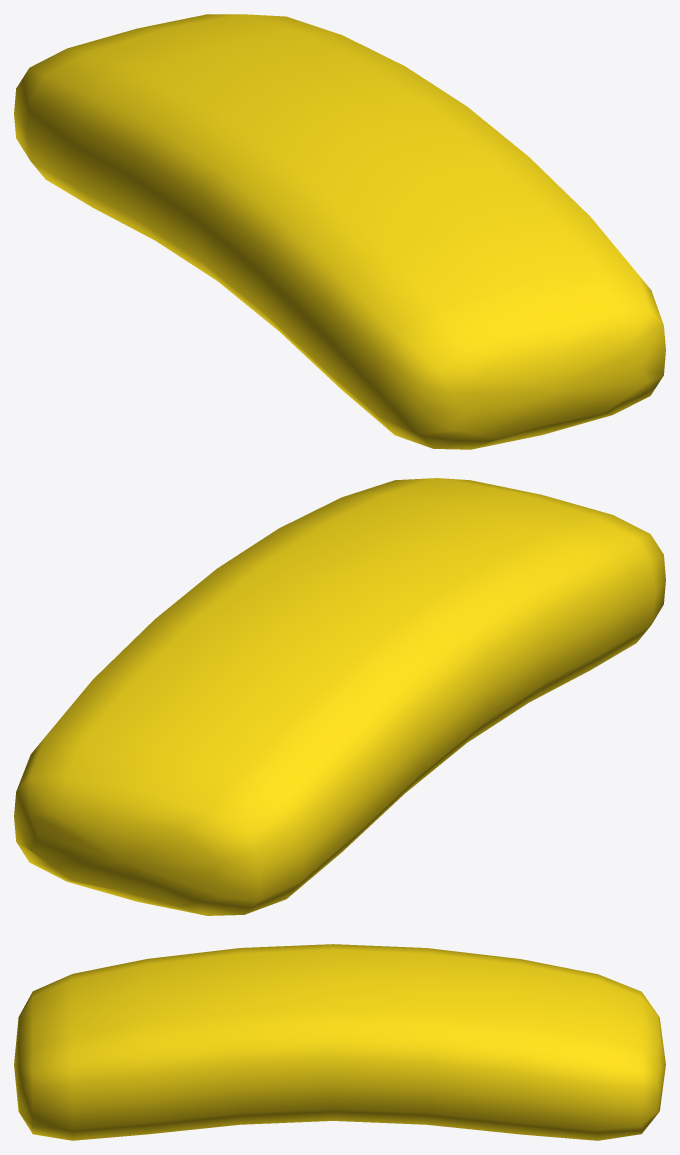
File: sushi_maguro.fbx
The picture shows the model from 3 angles, top to bottom: view 1: azimuth 30°, elevation 25°; view 2: azimuth 150°, elevation 25°; view 3: azimuth 270°, elevation 25°; orthographic projection. The views are drawn at different scales.
Visible parts, largest first — view 1: 立方体; view 2: 立方体; view 3: 立方体.
Part boxes in pixels (x1,y1,x2,y2): 立方体: [14, 14, 665, 449]; 立方体: [14, 478, 665, 915]; 立方体: [14, 944, 665, 1140].
Bounding box in the file's own units: 0.2376 × 0.1379 × 0.6123.
